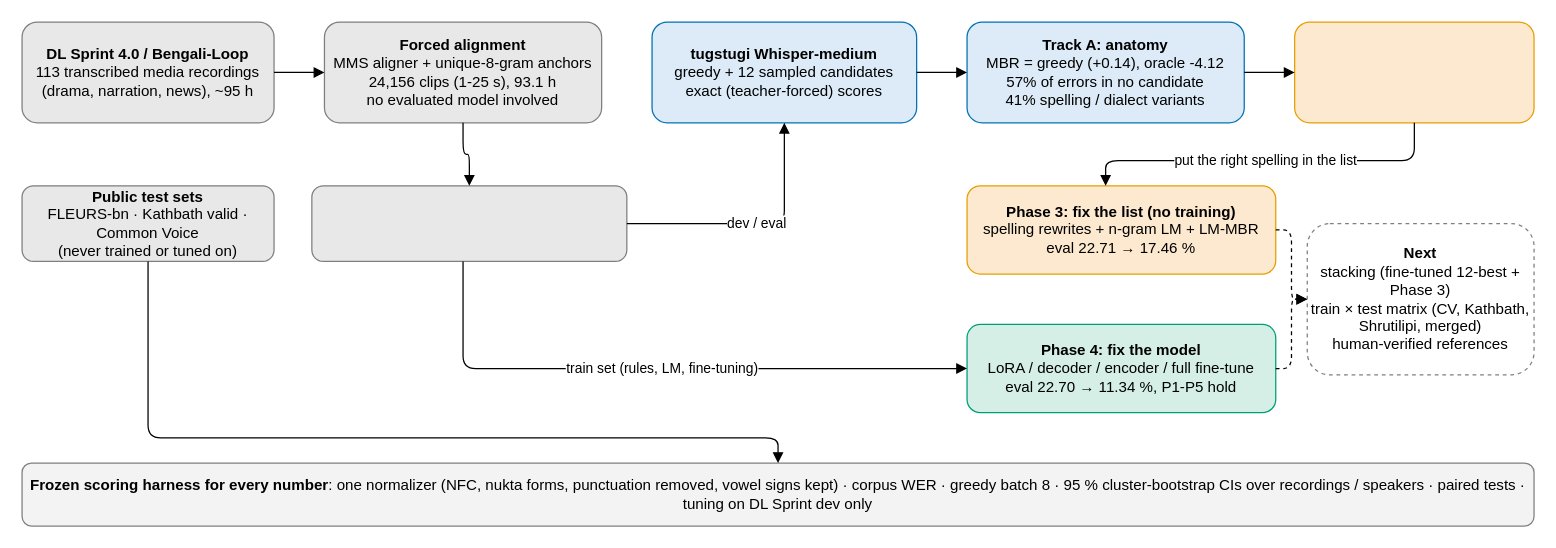
Some shapes in this 1556 by 548 pixel diagram are drawn without their labels. Each missing label, with the centre of its shape:
Diagnosis every candidate shares the model's spelling habit: the point at 1413,72
Split by recording train 83 (59.6 h) · dev 6 · eval 22 (16.9 h): the point at 469,223
